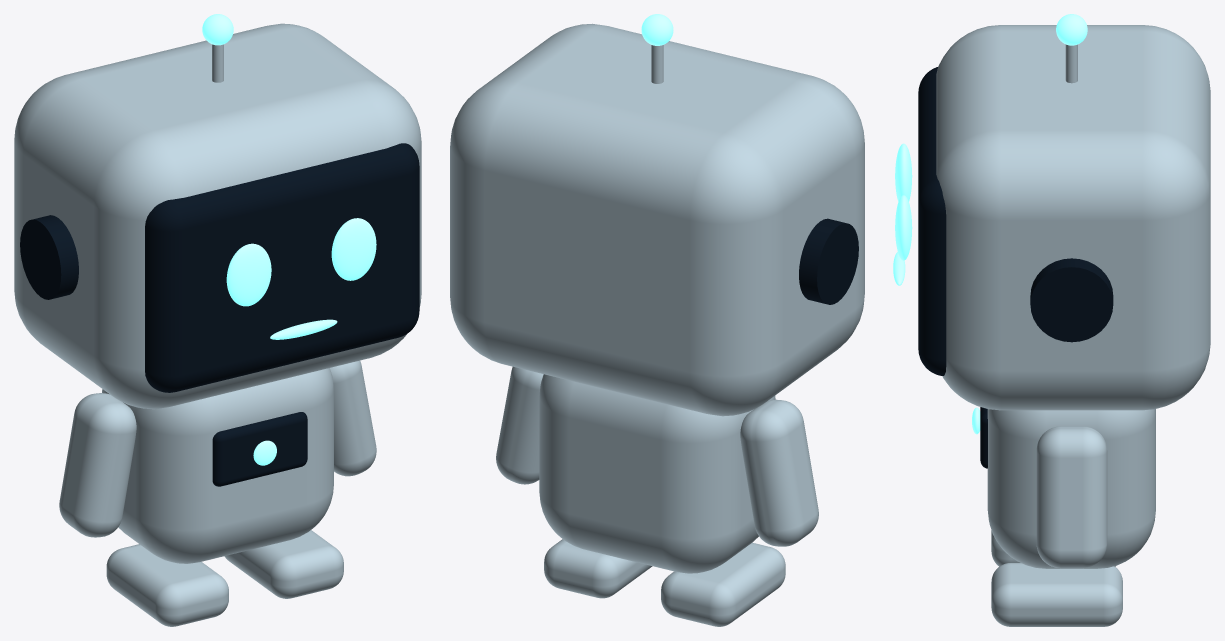
File: mini-prototype.glb
3 renders of one model, left to right at view 1: azimuth 30°, elevation 25°; view 2: azimuth 150°, elevation 25°; view 3: azimuth 270°, elevation 25°, orthographic.
Visible parts, largest first — view 1: Shell, Visor, Torso, ArmLeft, FootLeft, FootRight, ChestInset, ArmRight, EarLeft, EyeLeft, EyeRight, AntennaLight (+1 smaller); view 2: Shell, Torso, ArmLeft, FootLeft, ArmRight, EarLeft, FootRight, AntennaLight; view 3: Shell, Torso, ArmRight, FootRight, Visor, EarRight, EyeRight, EyeLeft, AntennaLight, Antenna, ChestInset.
Boxes of the visible parts, x1,y1,x2,y2 form: Shell: [14, 23, 421, 409]; Visor: [145, 143, 419, 392]; Torso: [102, 368, 333, 563]; ArmLeft: [59, 393, 136, 537]; FootLeft: [106, 544, 228, 626]; FootRight: [224, 530, 343, 598]; ChestInset: [212, 412, 307, 486]; ArmRight: [330, 360, 376, 476]; EarLeft: [20, 215, 78, 299]; EyeLeft: [226, 243, 271, 306]; EyeRight: [331, 218, 376, 280]; AntennaLight: [202, 14, 233, 45]; Shell: [450, 23, 864, 416]; Torso: [539, 374, 775, 573]; ArmLeft: [740, 399, 818, 546]; FootLeft: [661, 542, 785, 626]; ArmRight: [496, 366, 543, 484]; EarLeft: [799, 218, 858, 304]; FootRight: [544, 539, 652, 598]; AntennaLight: [641, 14, 673, 45]; Shell: [936, 25, 1210, 410]; Torso: [987, 409, 1155, 568]; ArmRight: [1036, 426, 1107, 568]; FootRight: [991, 563, 1122, 626]; Visor: [918, 67, 946, 375]; EarRight: [1030, 258, 1113, 342]; EyeRight: [895, 195, 912, 260]; EyeLeft: [895, 143, 912, 201]; AntennaLight: [1056, 14, 1087, 45]; Antenna: [1065, 44, 1077, 83]; ChestInset: [980, 407, 987, 468].
Bounding box in the file's own units: 1.69 × 2.59 × 1.3.
